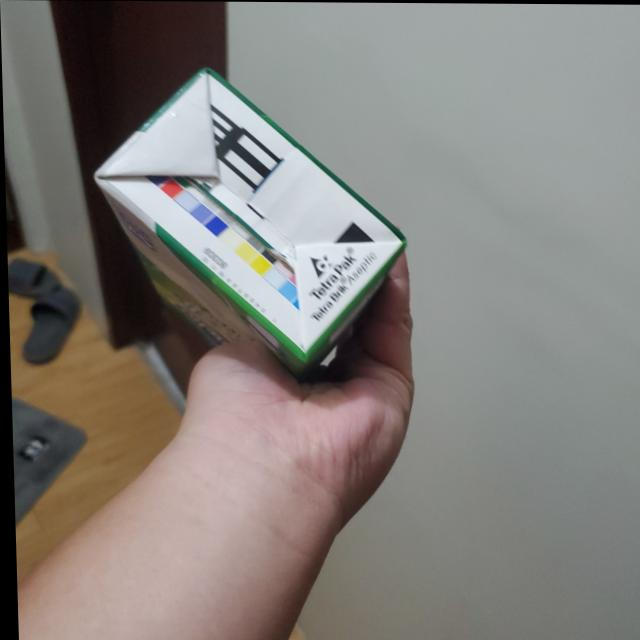milk: (92, 60, 409, 380)
